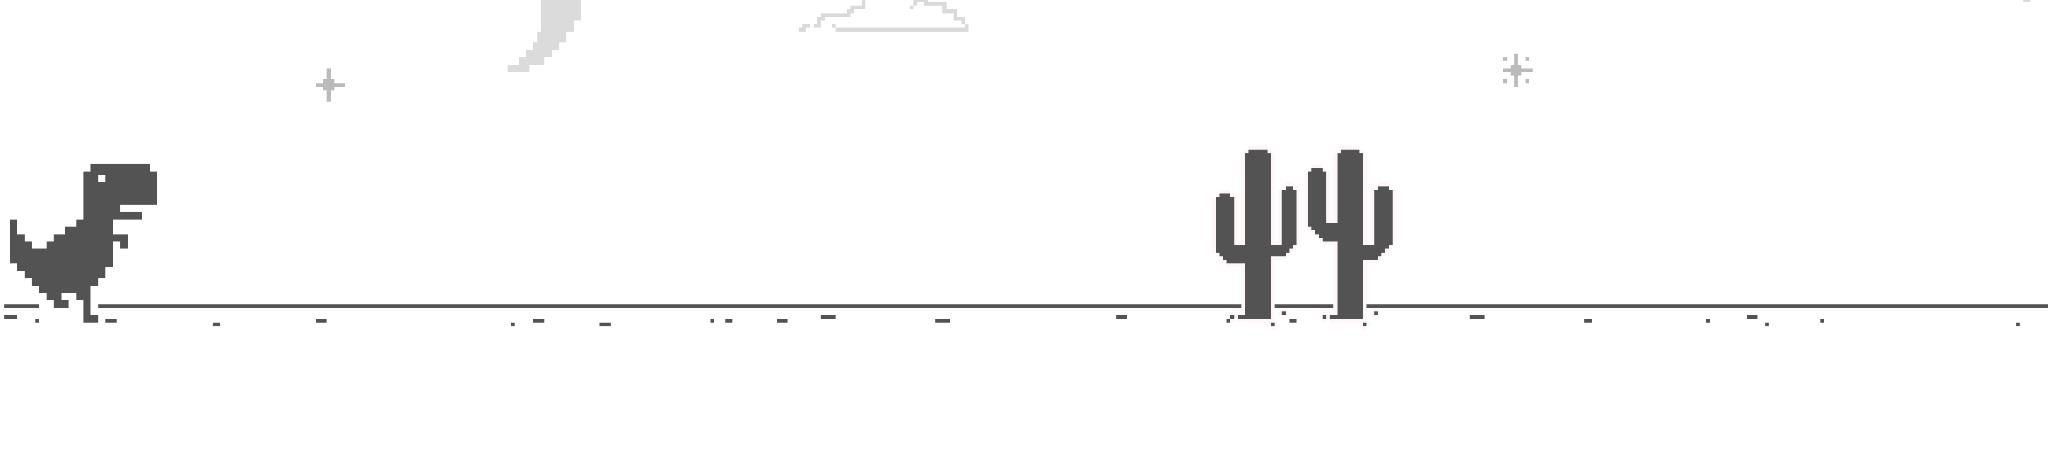6: (5, 157, 161, 328)
pterodactyl: (1209, 141, 1399, 329)
